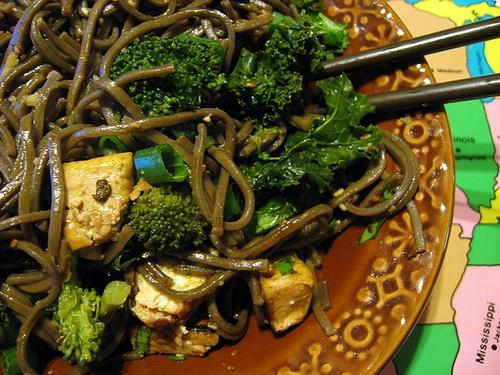broccoli: (109, 34, 227, 119), (44, 280, 131, 370), (128, 184, 211, 252), (243, 198, 300, 238)
green onion: (133, 143, 188, 185), (212, 176, 241, 222), (98, 135, 130, 155), (206, 136, 218, 151)
